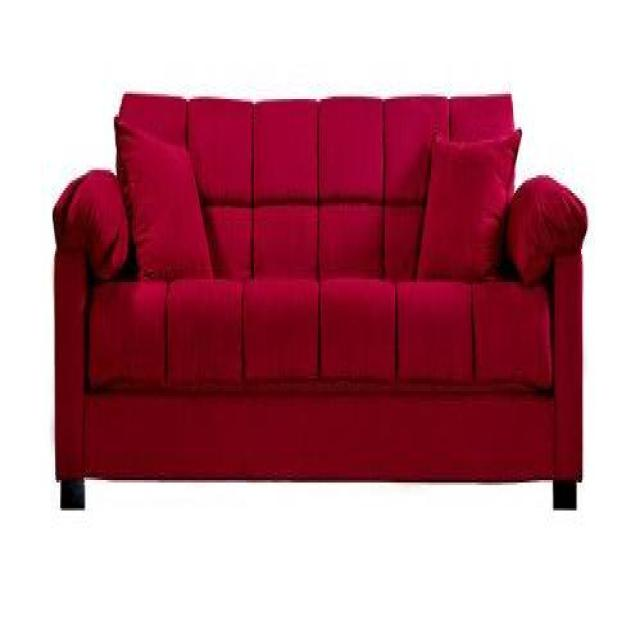sofa: (51, 89, 588, 513)
